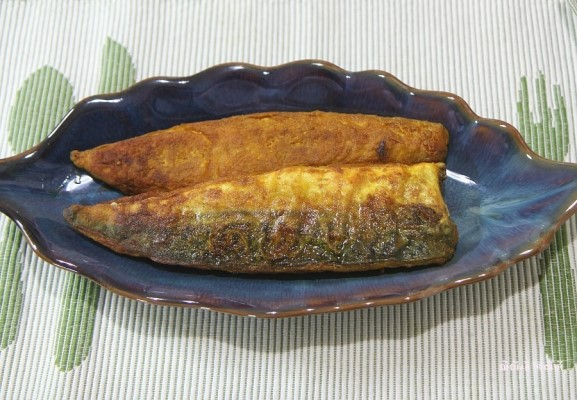godeung-eogu-i: (63, 159, 462, 277), (69, 112, 450, 206)
